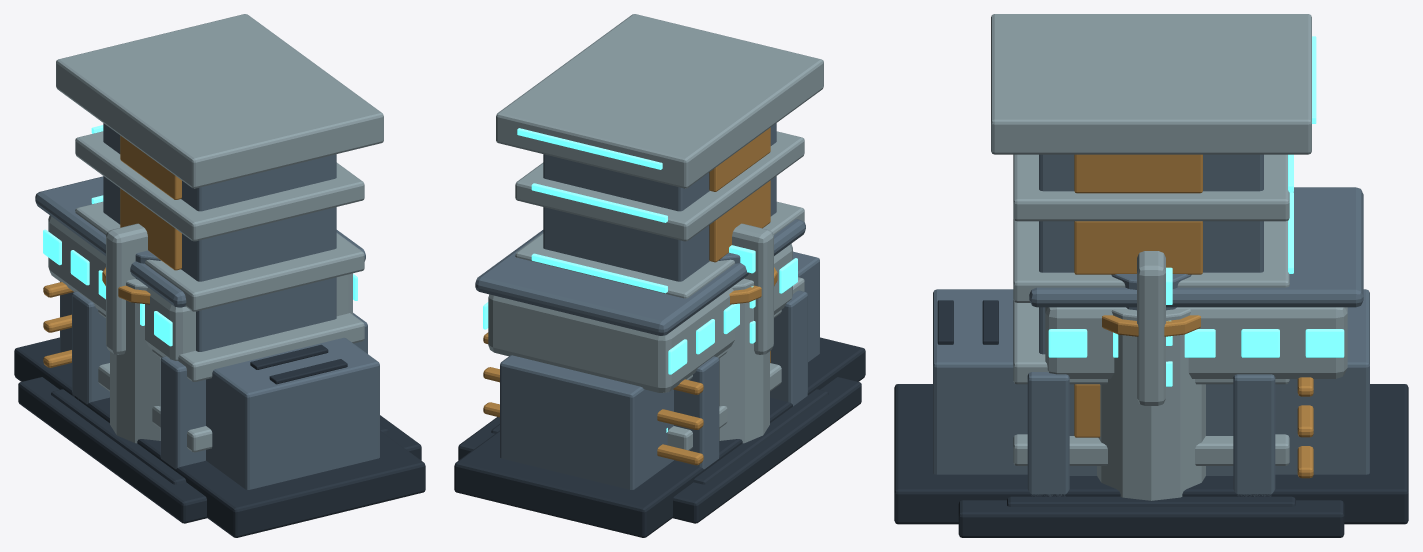
The model's file is campaign-modules-v1.glb.
3 views of the same model, side by side, from view 1: azimuth 30°, elevation 25°; view 2: azimuth 150°, elevation 25°; view 3: azimuth 270°, elevation 25° (orthographic). The views are drawn at different scales.
Parts seen in each view (by area): view 1: pylon_paint, bridge_paint, refinery_paint, radar_paint, bridge_glow; view 2: pylon_paint, bridge_paint, refinery_paint, radar_paint, pylon_glow, bridge_glow, radar_glow; view 3: pylon_paint, bridge_paint, refinery_paint, radar_paint, bridge_glow, pylon_glow.
Part boxes in pixels (x1=…): pylon_paint: x1=56, y1=14, x2=383, y2=485; bridge_paint: x1=14, y1=176, x2=425, y2=537; refinery_paint: x1=18, y1=250, x2=421, y2=523; radar_paint: x1=51, y1=223, x2=388, y2=484; bridge_glow: x1=43, y1=229, x2=357, y2=346; pylon_paint: x1=496, y1=14, x2=823, y2=485; bridge_paint: x1=454, y1=219, x2=865, y2=537; refinery_paint: x1=458, y1=252, x2=861, y2=523; radar_paint: x1=491, y1=223, x2=828, y2=484; pylon_glow: x1=517, y1=128, x2=667, y2=432; bridge_glow: x1=483, y1=258, x2=797, y2=374; radar_glow: x1=729, y1=245, x2=755, y2=343; pylon_paint: x1=991, y1=14, x2=1311, y2=500; bridge_paint: x1=894, y1=187, x2=1408, y2=524; refinery_paint: x1=958, y1=274, x2=1344, y2=537; radar_paint: x1=1007, y1=251, x2=1295, y2=506; bridge_glow: x1=1048, y1=329, x2=1344, y2=357; pylon_glow: x1=1288, y1=36, x2=1316, y2=273.
Bounding box in the file's own units: 5 × 7.33 × 8.
